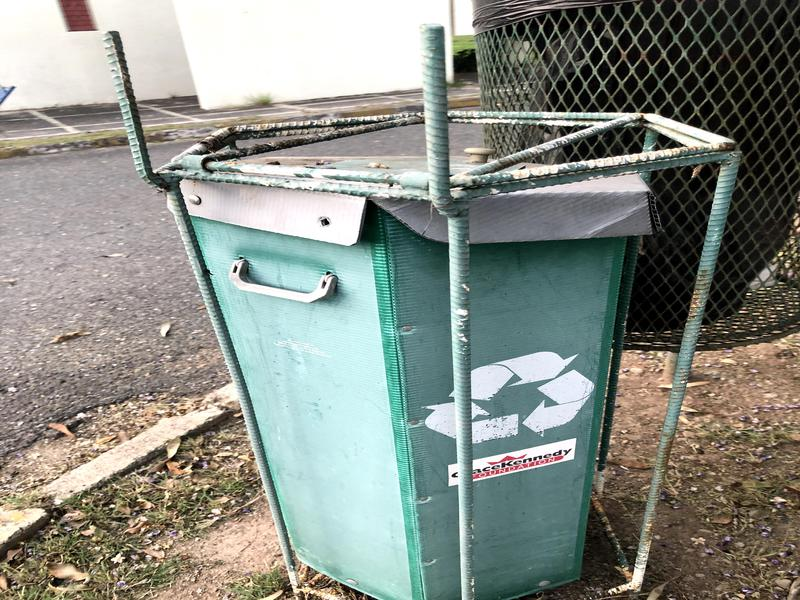18.0053245_-76.7486424_recyclebin: (145, 63, 680, 600)
